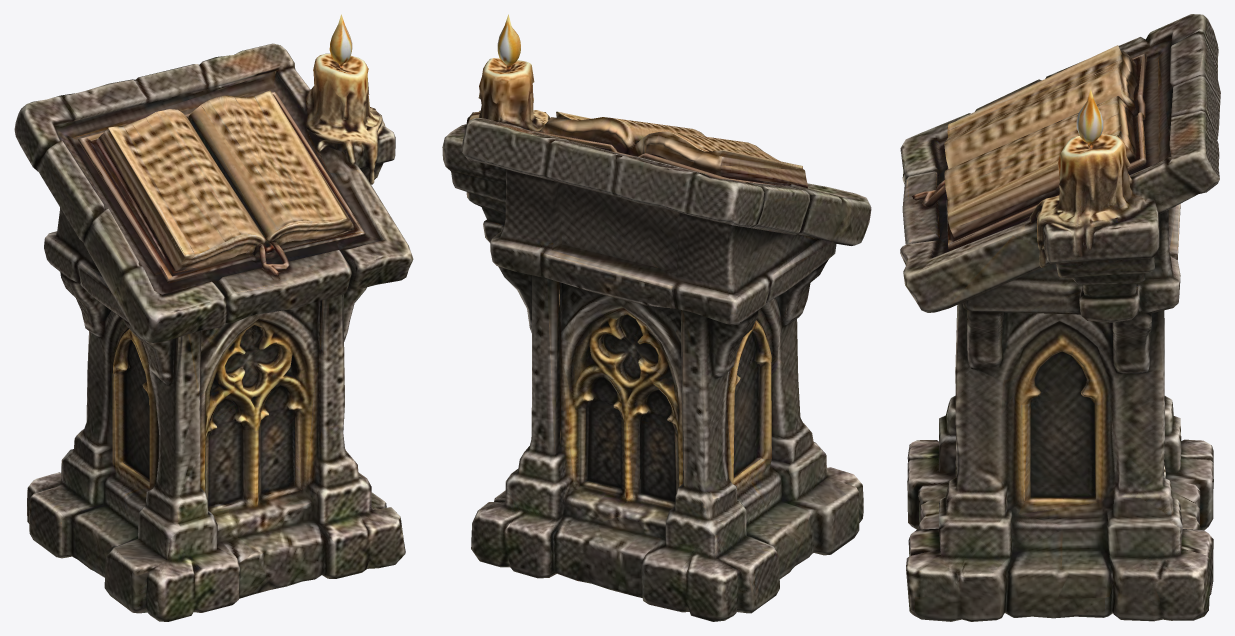
Rendered from lectern.glb.
The picture shows the model from 3 angles, left to right: view 1: azimuth 30°, elevation 25°; view 2: azimuth 150°, elevation 25°; view 3: azimuth 270°, elevation 25°; orthographic projection. The views are drawn at different scales.
Visible parts, largest first — view 1: Mesh_0; view 2: Mesh_0; view 3: Mesh_0.
Boxes of the visible parts, x1=… form: Mesh_0: x1=14, y1=14, x2=413, y2=621; Mesh_0: x1=442, y1=14, x2=871, y2=621; Mesh_0: x1=900, y1=14, x2=1220, y2=621.
Size of the model in its own units: 0.6499 by 0.9541 by 0.5127.
1 material, 1 textured.
